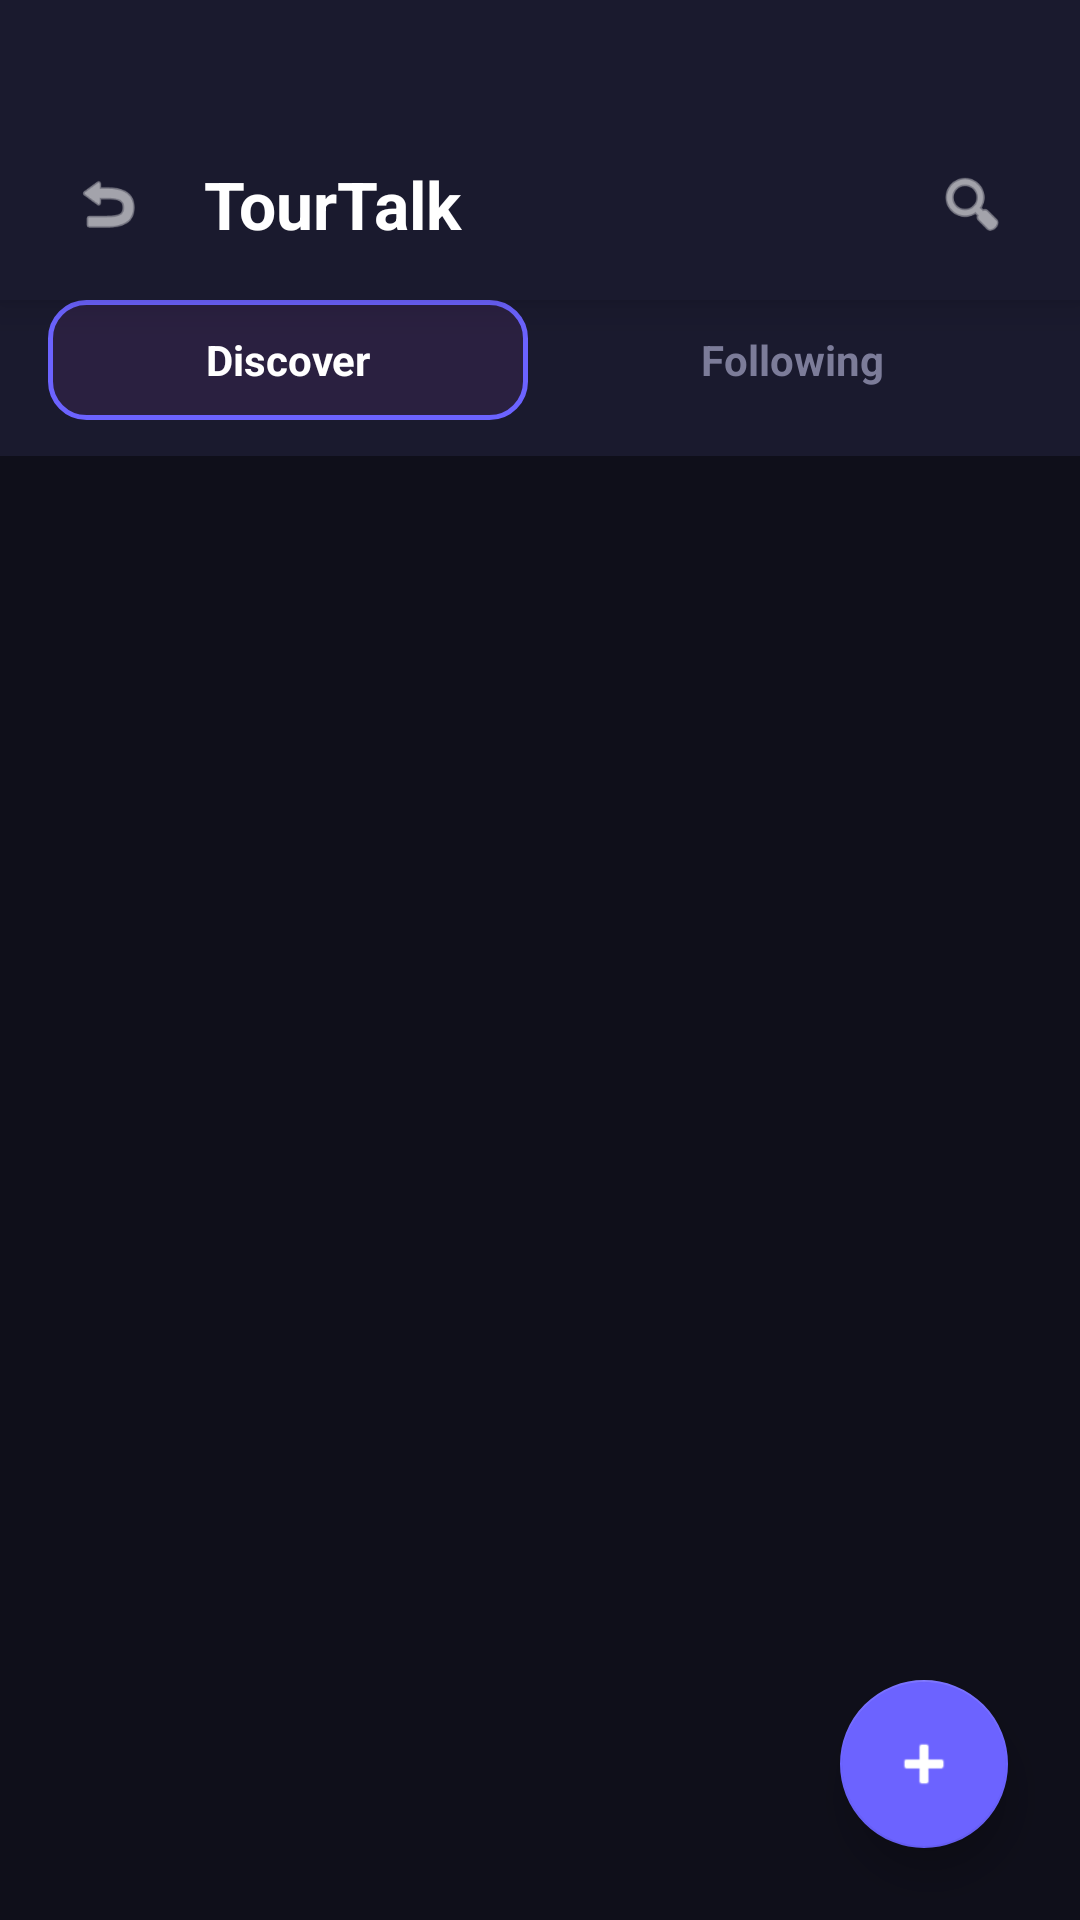

Locate icon controls on the screen. Image size 1080x1920, boxes as (x1, y1, x2, y2).
add: (840, 1680, 1008, 1848)
revert: (83, 181, 135, 228)
search: (945, 178, 999, 231)
